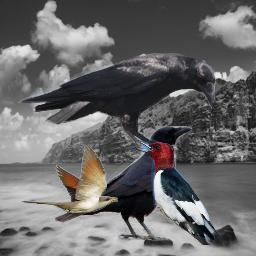Crow: (18, 53, 216, 151), (54, 126, 192, 240)
Cuckoo: (21, 145, 118, 213)
Woodpecker: (131, 137, 220, 245)
